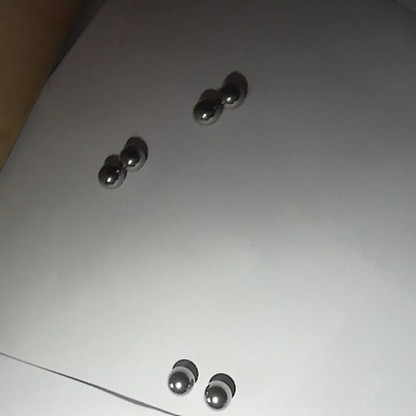ironball: (96, 161, 127, 190), (168, 364, 195, 394), (204, 379, 231, 409), (192, 100, 222, 126), (117, 145, 144, 171), (218, 82, 244, 106)
